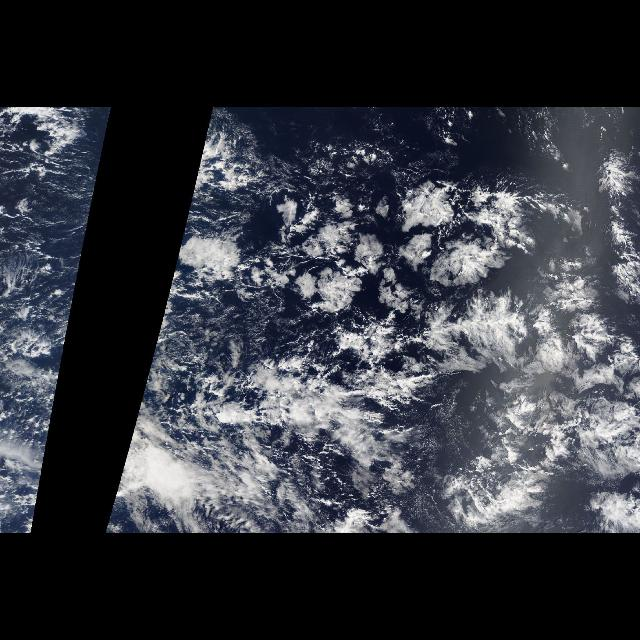Flower: (248, 170, 638, 380)
